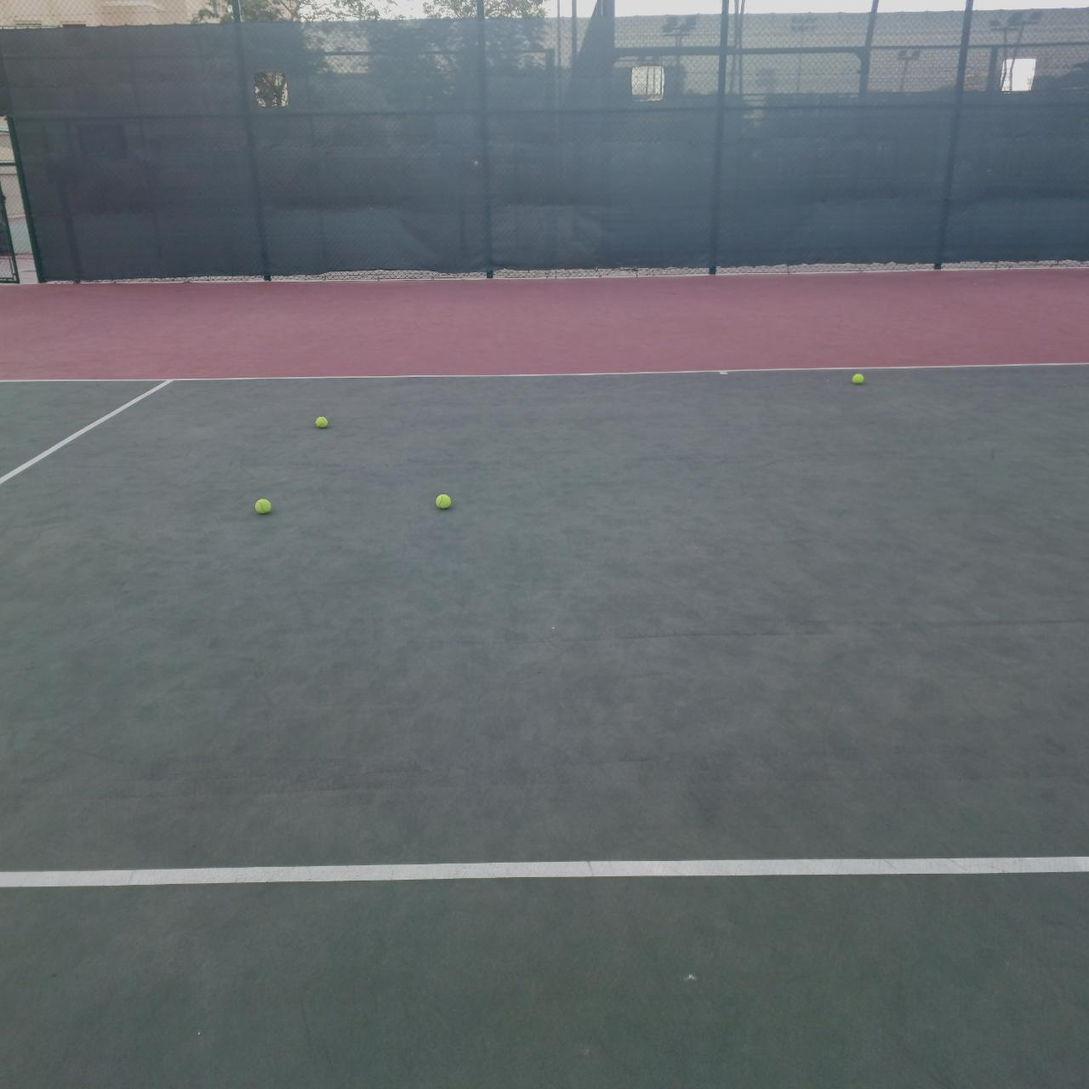tennis-ball: (434, 491, 452, 510), (253, 496, 271, 514), (313, 413, 328, 428), (850, 371, 864, 385)
